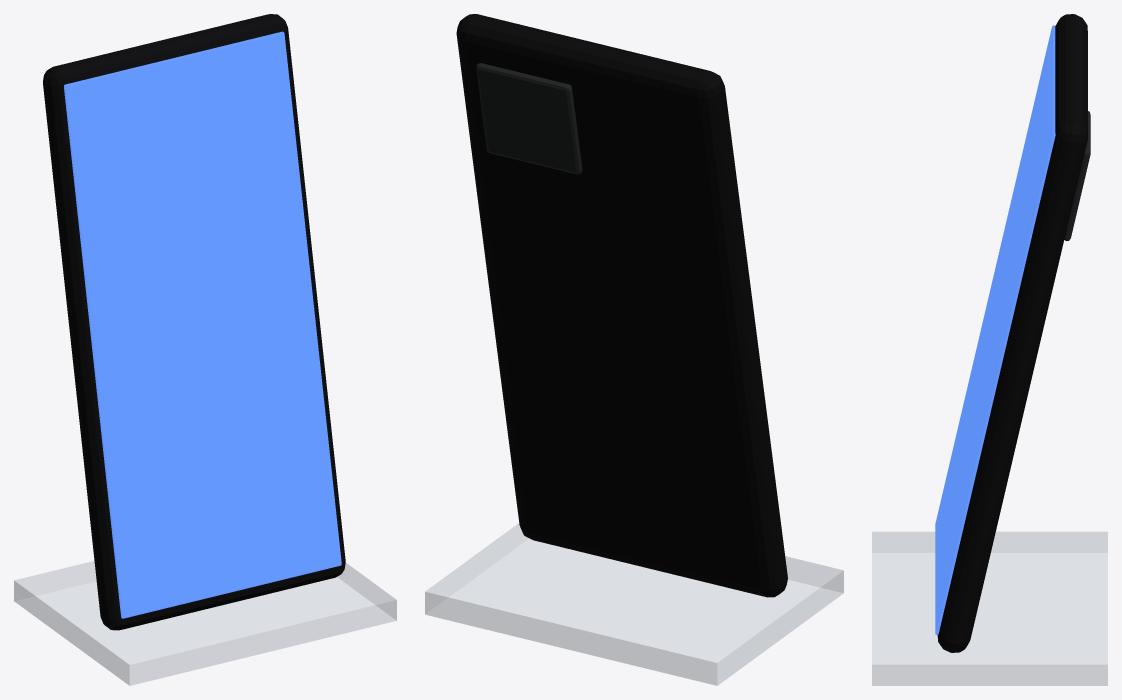
The model's file is tech_phone.glb.
3 views of the same model, side by side, from view 1: azimuth 30°, elevation 25°; view 2: azimuth 150°, elevation 25°; view 3: azimuth 270°, elevation 25° (orthographic). The views are drawn at different scales.
Visible parts, largest first — view 1: PhoneOnStand; view 2: PhoneOnStand; view 3: PhoneOnStand.
Part boxes in pixels (box(x1,y1,x2,y2)): PhoneOnStand: box(14, 14, 396, 685); PhoneOnStand: box(425, 14, 843, 685); PhoneOnStand: box(872, 14, 1107, 685).
Bounding box in the file's own units: 0.08 × 0.1547 × 0.06.
